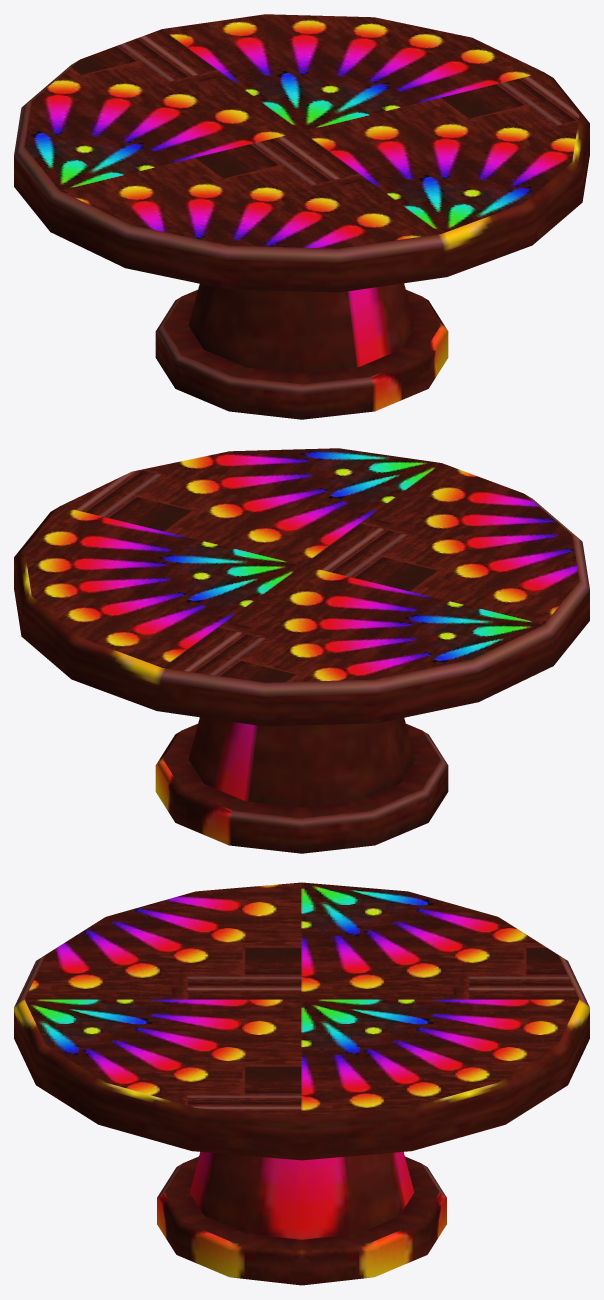
File: int_mon_08.dae
3 views of the same model, one above another, from view 1: azimuth 30°, elevation 25°; view 2: azimuth 150°, elevation 25°; view 3: azimuth 270°, elevation 25° (orthographic).
Visible parts, largest first — view 1: int_mon_08; view 2: int_mon_08; view 3: int_mon_08.
Boxes of the visible parts, box(x1,y1,x2,y2) form: int_mon_08: box(14, 14, 589, 419); int_mon_08: box(14, 448, 589, 853); int_mon_08: box(14, 882, 589, 1285).
Size of the model in its own units: 59.62 by 25.65 by 59.62.
1 material, 1 textured.
